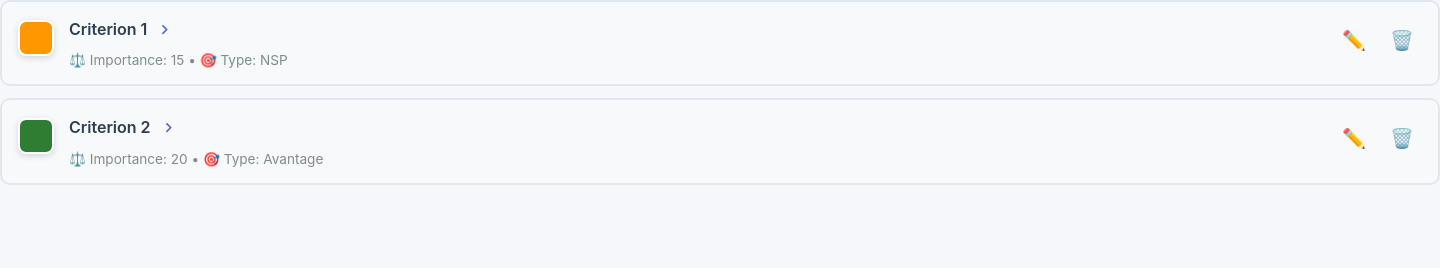
Test: CritereList › should display edit form when edit button is clicked
The image size is (1440, 268).
Click the button named "modifier la motivation clé" at [1354, 40], box top-left (1334, 20), bottom-right (1374, 60)
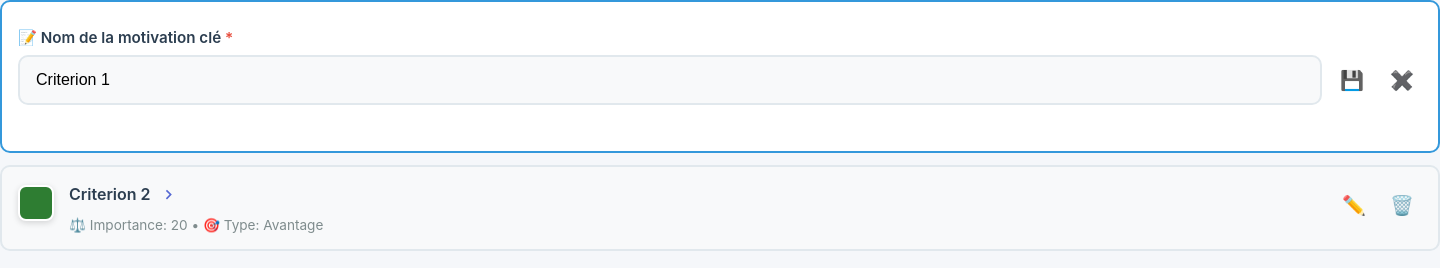
Check: the field labelled "📝 Nom de la motivation clé *" is shown, box top-left (18, 55), bottom-right (1322, 105)
